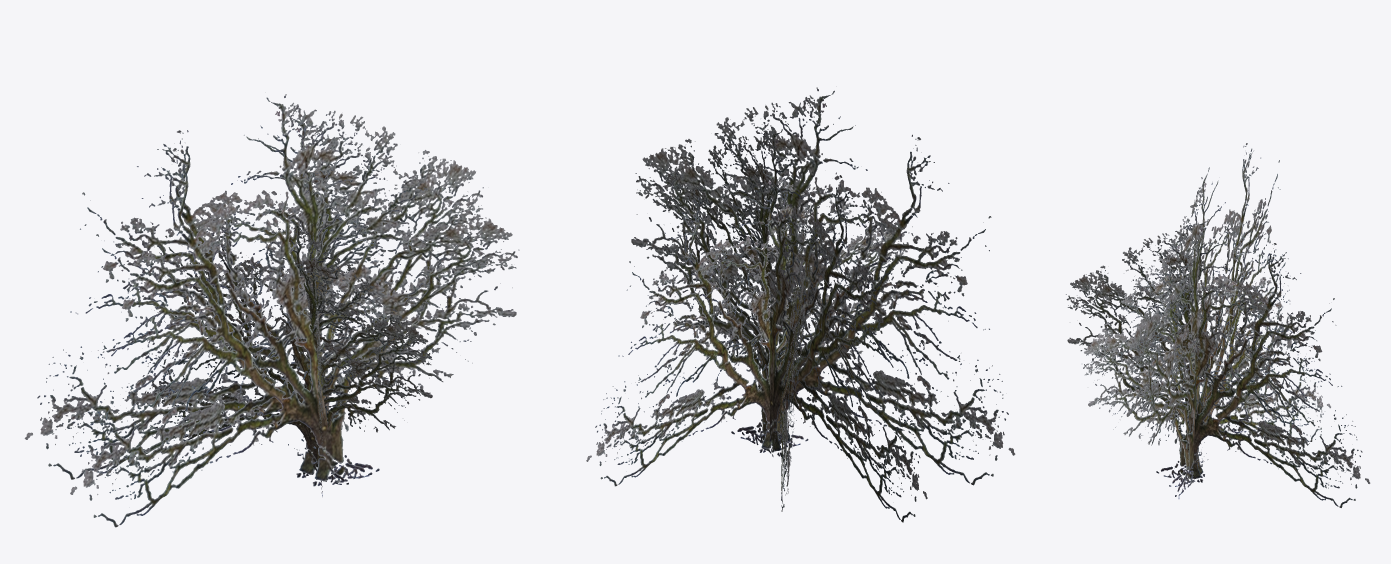
The model's file is big snow trees.fbx.
3 renders of one model, left to right at view 1: azimuth 30°, elevation 25°; view 2: azimuth 150°, elevation 25°; view 3: azimuth 270°, elevation 25°, orthographic. The views are drawn at different scales.
Parts seen in each view (by area): view 1: deadtreehero_deadtreehero_0.001; view 2: deadtreehero_deadtreehero_0.001; view 3: deadtreehero_deadtreehero_0.001.
Boxes of the visible parts, bbox=[...] form: deadtreehero_deadtreehero_0.001: bbox=[24, 94, 519, 527]; deadtreehero_deadtreehero_0.001: bbox=[586, 87, 1015, 522]; deadtreehero_deadtreehero_0.001: bbox=[1066, 143, 1370, 507].
Bounding box in the file's own units: 6092 × 5623 × 4644.
